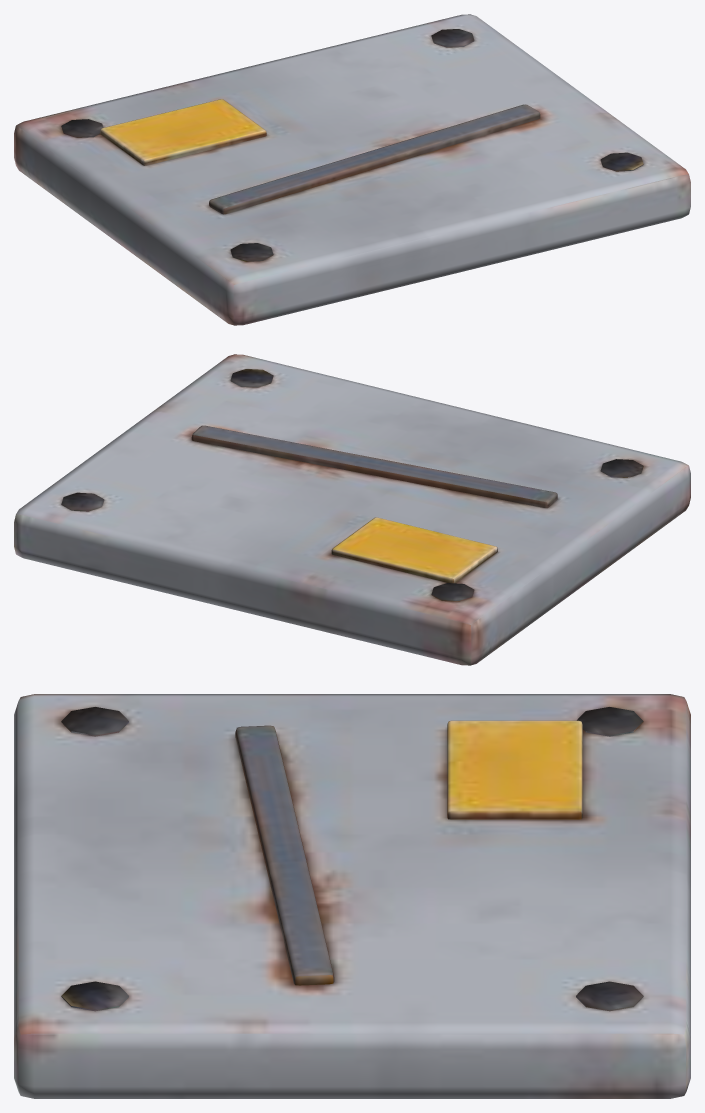
The model's file is plate.glb.
3 renders of one model, top to bottom at view 1: azimuth 30°, elevation 25°; view 2: azimuth 150°, elevation 25°; view 3: azimuth 270°, elevation 25°, orthographic. The views are drawn at different scales.
Parts seen in each view (by area): view 1: body; view 2: body; view 3: body.
Boxes of the visible parts, left/top/right/bottom form: body: left=14, top=14, right=690, bottom=325; body: left=14, top=354, right=690, bottom=665; body: left=14, top=694, right=690, bottom=1098.
Size of the model in its own units: 0.6 by 0.069 by 0.5.
Materials: 1 (1 with a texture image).
